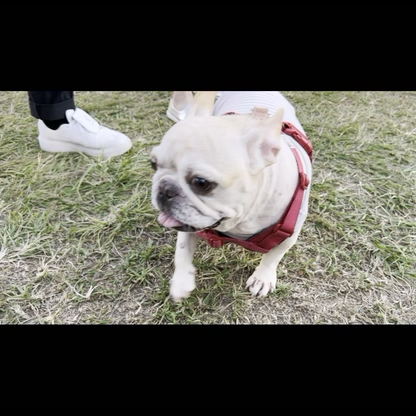bulldog: (147, 93, 318, 306)
